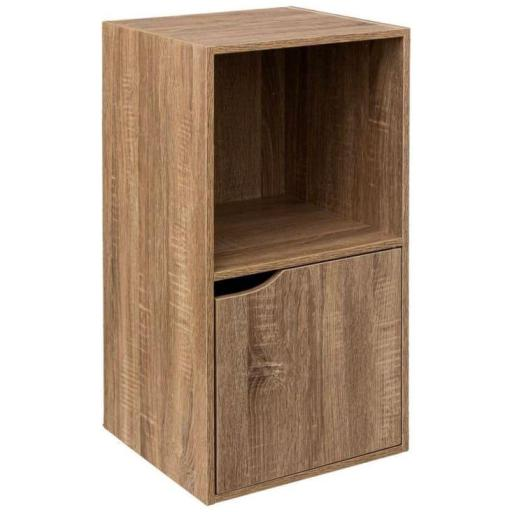table: (100, 8, 424, 488)
